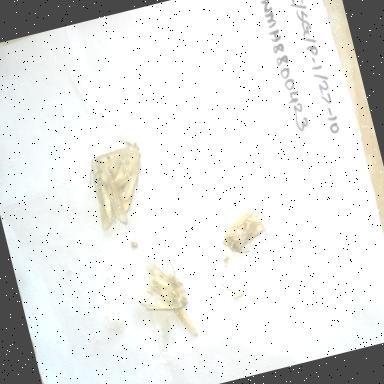abw: (88, 124, 158, 222), (121, 250, 197, 330), (209, 188, 277, 260), (76, 146, 130, 236)
